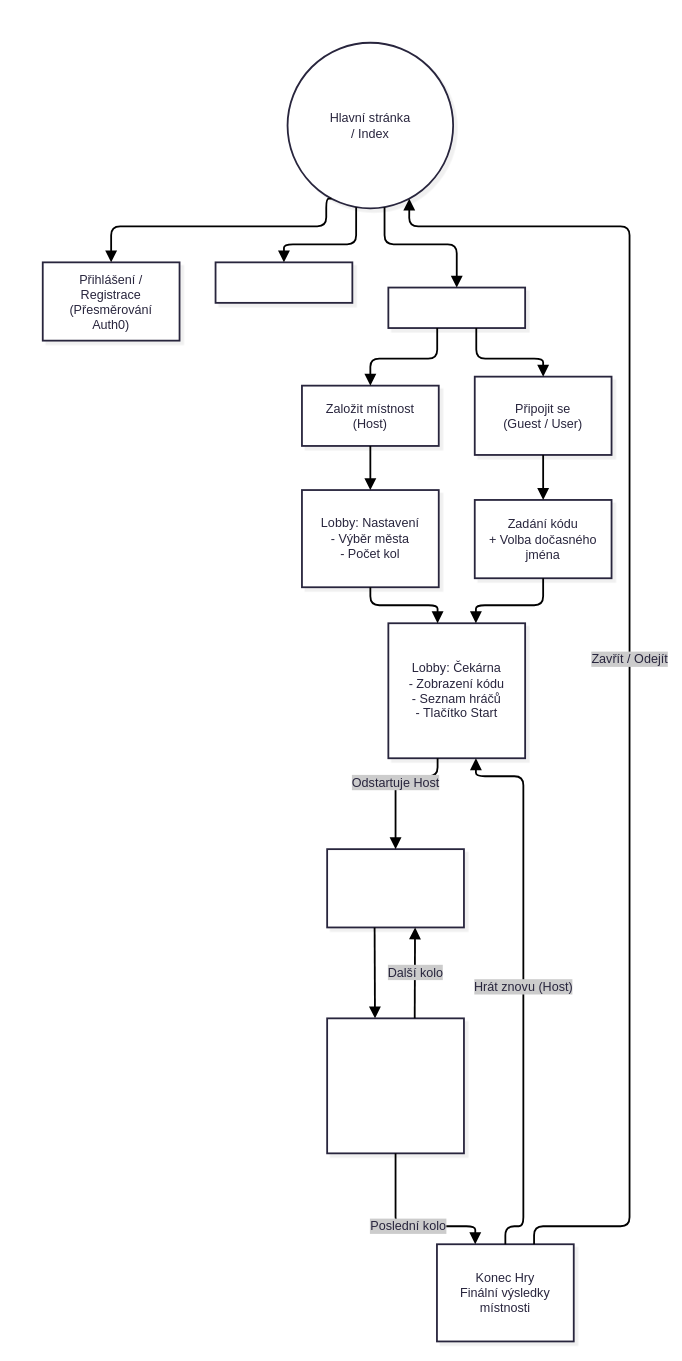
Some shapes in this 682 by 1361 pixel diagram are drawn without their labels. Here are the shapes that lost their labels. From the top down, the centre of each, then its label:
(285,284): Globální Žebříček
(458,309): Hrát Hru
(397,890): Herní Obrazovka (Hádání ceny)
(397,1087): Vyhodnocení Kola - Odhalení skutečné ceny - Ukázka tipů soupeřů - Rozdělení bodů
